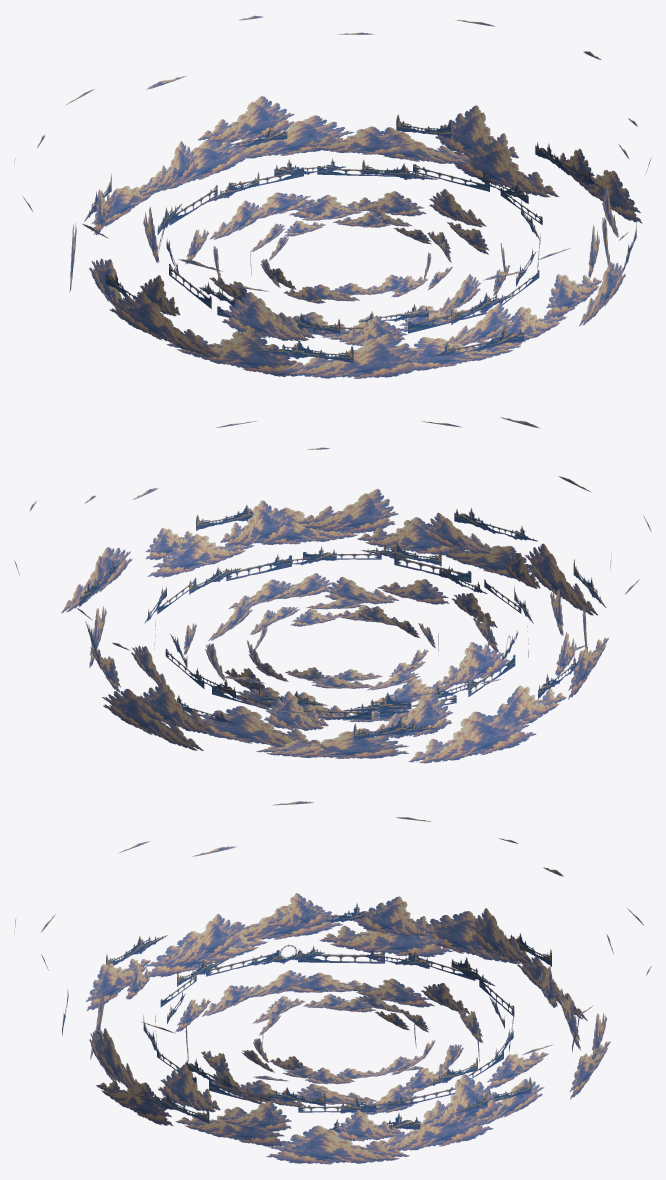
Rendered from sky-cards-v048.glb.
3 views of the same model, one above another, from view 1: azimuth 30°, elevation 25°; view 2: azimuth 150°, elevation 25°; view 3: azimuth 270°, elevation 25° (orthographic). The views are drawn at different scales.
Parts seen in each view (by area): view 1: E01｜远层云台 11 v048, E01｜远层云台 10 v048, E01｜远层云台 02 v048, E01｜远层云台 09 v048, E01｜高云峰 09 v048, E01｜高云峰 04 v048, E01｜远层云台 04 v048, E01｜远层云台 05 v048, E01｜远层云台 12 v048, E01｜高云峰 02 v048, E01｜高云峰 03 v048, E01｜远层云台 01 v048 (+22 smaller); view 2: E01｜远层云台 07 v048, E01｜远层云台 06 v048, E01｜远层云台 05 v048, E01｜高云峰 12 v048, E01｜远层云台 15 v048, E01｜远层云台 04 v048, E01｜高云峰 13 v048, E01｜高云峰 04 v048, E01｜远层云台 13 v048, E01｜远层云台 11 v048, E01｜高云峰 06 v048, E01｜远层云台 08 v048 (+23 smaller); view 3: E01｜远层云台 01 v048, E01｜远层云台 08 v048, E01｜远层云台 02 v048, E01｜高云峰 02 v048, E01｜远层云台 07 v048, E01｜高云峰 07 v048, E01｜高云峰 09 v048, E01｜远层云台 10 v048, E01｜远层云台 15 v048, E01｜远层云台 14 v048, E01｜高云峰 13 v048, E01｜远层云台 09 v048 (+21 smaller).
Part boxes in pixels (x1=…): E01｜远层云台 11 v048: x1=281, y1=333, x2=425, y2=378; E01｜远层云台 10 v048: x1=166, y1=329, x2=303, y2=376; E01｜远层云台 02 v048: x1=454, y1=141, x2=558, y2=197; E01｜远层云台 09 v048: x1=109, y1=293, x2=219, y2=357; E01｜高云峰 09 v048: x1=222, y1=292, x2=314, y2=340; E01｜高云峰 04 v048: x1=197, y1=96, x2=294, y2=142; E01｜远层云台 04 v048: x1=234, y1=115, x2=354, y2=158; E01｜远层云台 05 v048: x1=139, y1=139, x2=253, y2=195; E01｜远层云台 12 v048: x1=406, y1=337, x2=520, y2=370; E01｜高云峰 02 v048: x1=435, y1=105, x2=518, y2=159; E01｜高云峰 03 v048: x1=303, y1=126, x2=412, y2=155; E01｜远层云台 01 v048: x1=571, y1=170, x2=642, y2=223; E01｜远层云台 07 v048: x1=408, y1=711, x2=536, y2=763; E01｜远层云台 06 v048: x1=256, y1=728, x2=408, y2=758; E01｜远层云台 05 v048: x1=200, y1=706, x2=329, y2=748; E01｜高云峰 12 v048: x1=297, y1=489, x2=398, y2=532; E01｜远层云台 15 v048: x1=147, y1=534, x2=254, y2=577; E01｜远层云台 04 v048: x1=102, y1=689, x2=203, y2=750; E01｜高云峰 13 v048: x1=220, y1=500, x2=294, y2=545; E01｜高云峰 04 v048: x1=135, y1=682, x2=214, y2=733; E01｜远层云台 13 v048: x1=357, y1=517, x2=450, y2=555; E01｜远层云台 11 v048: x1=525, y1=543, x2=597, y2=615; E01｜高云峰 06 v048: x1=373, y1=690, x2=452, y2=738; E01｜远层云台 08 v048: x1=491, y1=685, x2=566, y2=726; E01｜远层云台 01 v048: x1=266, y1=1125, x2=409, y2=1164; E01｜远层云台 08 v048: x1=319, y1=925, x2=452, y2=957; E01｜远层云台 02 v048: x1=378, y1=1106, x2=493, y2=1151; E01｜高云峰 02 v048: x1=423, y1=1074, x2=502, y2=1126; E01｜远层云台 07 v048: x1=425, y1=911, x2=527, y2=963; E01｜高云峰 07 v048: x1=353, y1=896, x2=436, y2=936; E01｜高云峰 09 v048: x1=166, y1=914, x2=240, y2=965; E01｜远层云台 10 v048: x1=144, y1=931, x2=267, y2=977; E01｜远层云台 15 v048: x1=175, y1=1107, x2=284, y2=1146; E01｜远层云台 14 v048: x1=96, y1=1081, x2=172, y2=1125; E01｜高云峰 13 v048: x1=158, y1=1064, x2=220, y2=1112; E01｜远层云台 09 v048: x1=229, y1=904, x2=342, y2=941.
Size of the model in its own units: 1250 by 275 by 1276.
Materials: 7 (7 with a texture image).
